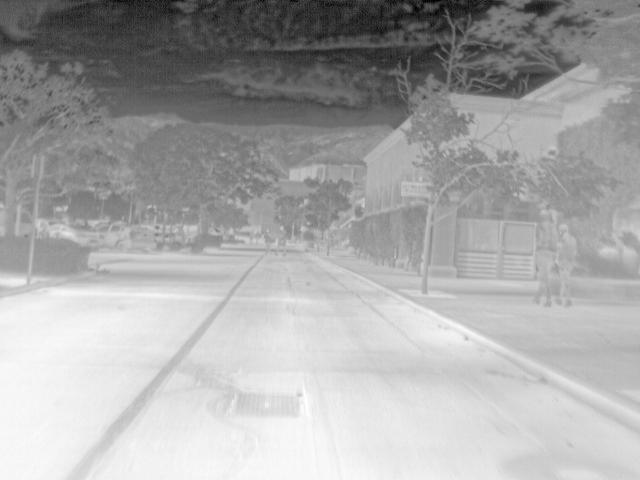car: (102, 221, 156, 253), (43, 223, 103, 249), (13, 208, 33, 237), (181, 225, 196, 242), (156, 224, 169, 243), (170, 224, 182, 243), (210, 225, 222, 238)
person: (533, 209, 555, 308), (557, 223, 575, 309), (275, 224, 288, 258), (262, 228, 272, 256)
